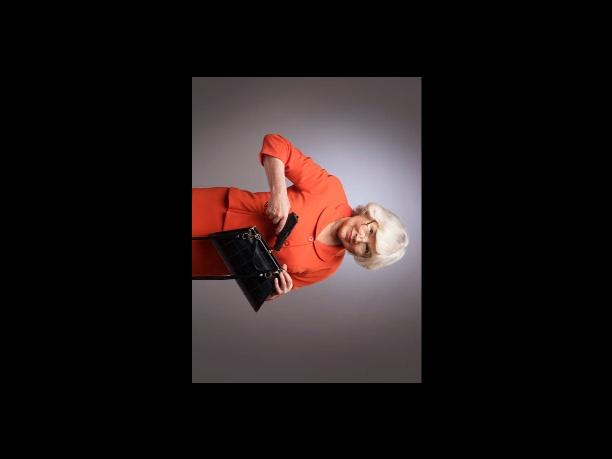weapon: (269, 208, 297, 252)
